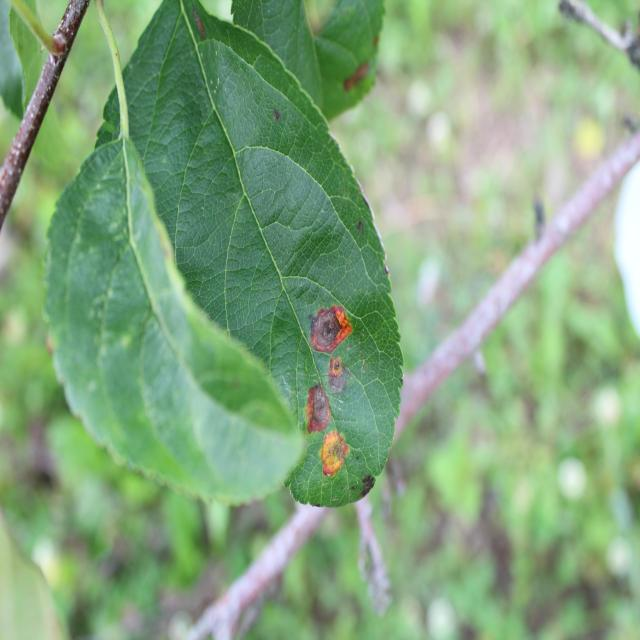Rust: (302, 289, 356, 362), (294, 374, 345, 437), (319, 427, 358, 493)
